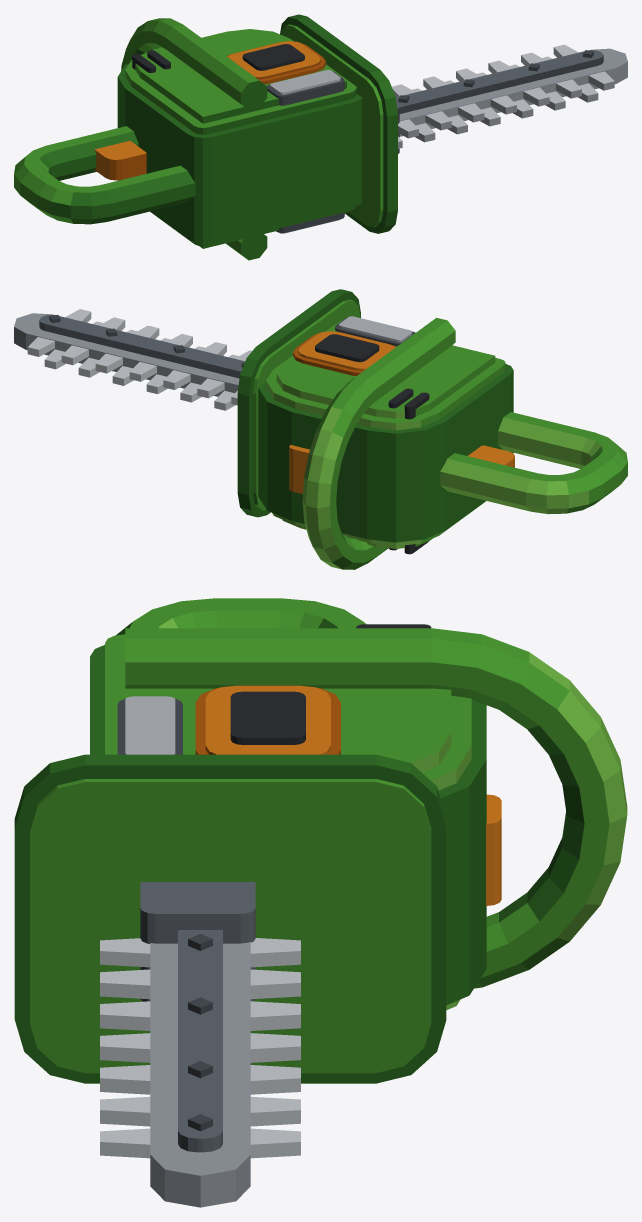
Rendered from HedgeTrimmer.fbx.
3 views of the same model, one above another, from view 1: azimuth 30°, elevation 25°; view 2: azimuth 150°, elevation 25°; view 3: azimuth 270°, elevation 25° (orthographic). The views are drawn at different scales.
Visible parts, largest first — view 1: TrimmerBody, TrimmerHandle, TrimmerBladeTop, TrimmerBar, TrimmerBladeBottom; view 2: TrimmerBody, TrimmerHandle, TrimmerBladeTop, TrimmerBar, TrimmerBladeBottom; view 3: TrimmerBody, TrimmerBladeTop, TrimmerBar, TrimmerHandle, TrimmerBladeBottom.
Boxes of the visible parts, box(x1,y1,x2,y2) form: TrimmerBody: box(117, 14, 397, 260); TrimmerHandle: box(14, 126, 195, 224); TrimmerBladeTop: box(392, 44, 627, 138); TrimmerBar: box(395, 50, 603, 153); TrimmerBladeBottom: box(398, 56, 627, 148); TrimmerBody: box(237, 289, 513, 569); TrimmerHandle: box(440, 412, 627, 514); TrimmerBladeTop: box(14, 309, 251, 405); TrimmerBar: box(39, 314, 245, 395); TrimmerBladeBottom: box(14, 321, 238, 410); TrimmerBody: box(14, 624, 627, 1083); TrimmerBladeTop: box(100, 938, 300, 1191); TrimmerBar: box(140, 882, 255, 1152); TrimmerHandle: box(116, 598, 366, 635); TrimmerBladeBottom: box(150, 1171, 250, 1207).
Size of the model in its own units: 538 by 156 by 244.
